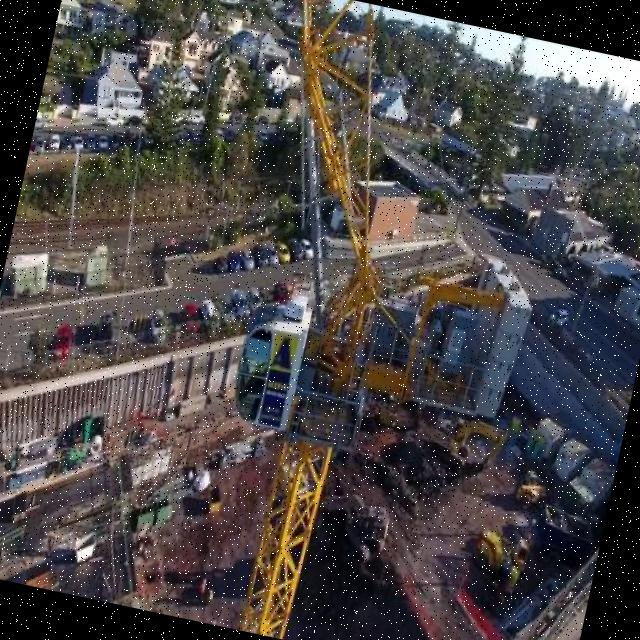Excavator: (412, 409, 504, 484)
